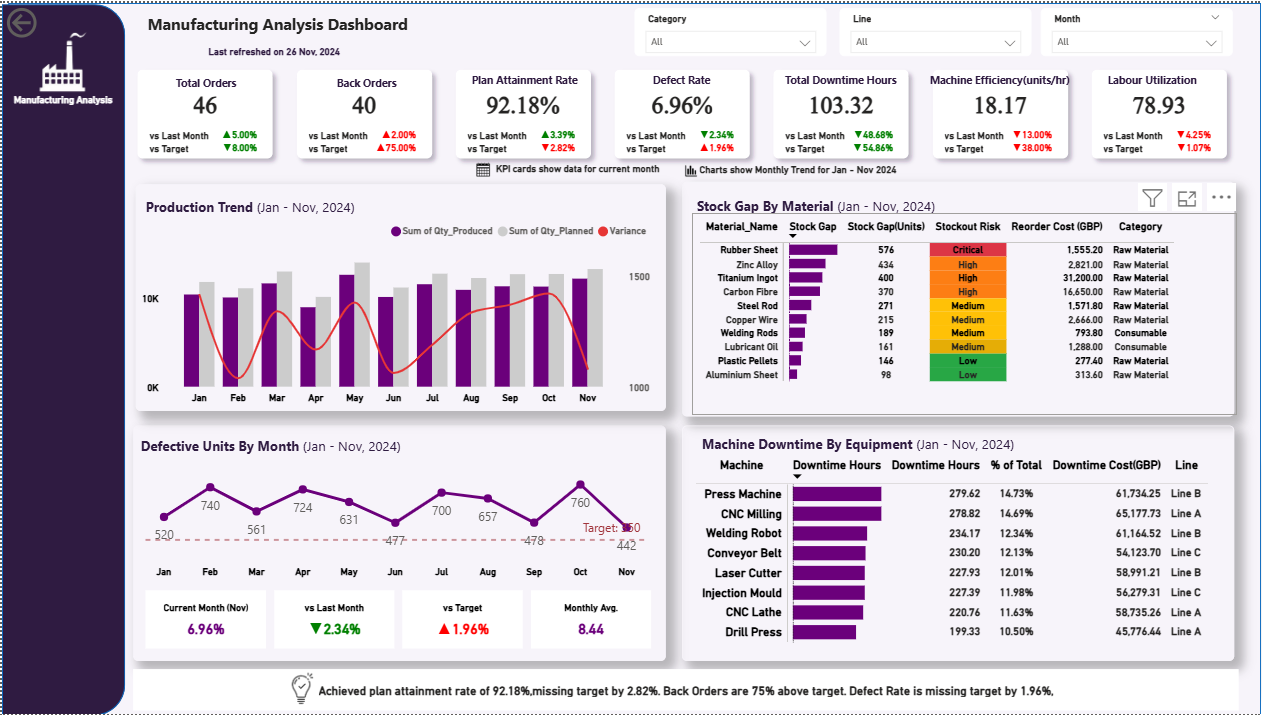

The page's visual inventory and layout, read from the dashboard file:
{"tool":"powerbi","page":{"name":"Page 1","canvas":[1280,720],"ordinal":0},"visuals":[{"type":"shape","box":[704.1,459.2,558.7,238.8],"z":0},{"type":"shape","box":[5.8,0,1269.6,721.4],"z":1000},{"type":"shape","box":[0,1.2,124.7,720.2],"z":2000},{"type":"textbox","box":[135.3,5.6,287.4,39.4],"z":3000},{"type":"cardVisual","fields":{"Data":["production_orders.TotalOrders_Latest","production_orders.TotalBackOrders_Latest","production_orders.Plan_Attainment_Latest","quality_defects.DefectRate_Latest","downtime_log.DowntimeRate_Latest","employees_shifts.MachineProductivity_Latest","employees_shifts.LabourUtil_Latest"]},"box":[119.8,50.1,1143.3,124.7],"z":4000},{"type":"textbox","box":[140.6,66,132.1,31.8],"z":5000},{"type":"textbox","box":[459.8,63.6,139.4,30.6],"z":6000},{"type":"textbox","box":[620,63.6,135.7,30.6],"z":7000},{"type":"textbox","box":[774.1,63.6,149.2,28.1],"z":8000},{"type":"textbox","box":[930.6,63.6,160.2,30.6],"z":9000},{"type":"textbox","box":[302,66,133.3,28.1],"z":10000},{"type":"card","fields":{"Values":["production_orders.Refresh"]},"box":[146.7,36.7,258,25.7],"z":11000},{"type":"shape","box":[688.5,181,558.8,237.2],"z":13000},{"type":"textbox","box":[698.2,190.8,284.9,37.9],"z":14000},{"type":"textbox","box":[1078.5,63.6,172.4,28.1],"z":15000},{"type":"actionButton","box":[0,0,100,40],"z":16000},{"type":"pivotTable","fields":{"Rows":["inventory_materials.Material_Name"],"Values":["Sum(inventory_materials.Stock_Gap)","inventory_materials.StockGap","inventory_materials.Measure1","Sum(inventory_materials.Reorder_Cost_GBP)","Min(inventory_materials.Category)"]},"box":[698.2,212.8,552.7,205.4],"z":17000},{"type":"textbox","box":[439,152,234,29],"z":18000},{"type":"textbox","box":[701,153,235,29],"z":19000},{"type":"shape","box":[133.3,428,539.3,238.5],"z":20000},{"type":"shape","box":[688.5,428,558.8,238.5],"z":21000},{"type":"slicer","fields":{"Values":["dim_products.Category"]},"box":[640.8,4.9,194.4,48.9],"z":22000},{"type":"textbox","box":[704.4,432.9,347.3,35.5],"z":23000},{"type":"slicer","fields":{"Values":["dim_employees.Line"]},"box":[848.6,4.9,194.4,48.9],"z":24000},{"type":"slicer","fields":{"Values":["dim_date.Month_Name"]},"box":[1051.6,4.9,194.4,48.9],"z":25000},{"type":"lineChart","fields":{"Category":["quality_defects.Month_Name"],"Y":["Sum(quality_defects.Units_Defective)"]},"box":[140.6,468.3,516,121.1],"z":26000},{"type":"pivotTable","fields":{"Rows":["downtime_log.Machine_Name"],"Values":["Sum(downtime_log.Duration_hrs)","downtime_log.Downtime_hrs","downtime_log.Downtime Rate","Sum(downtime_log.Cost_GBP)","Min(downtime_log.Production_Line)"]},"box":[694,453,552.6,206.3],"z":27000},{"type":"shape","box":[135.6,183.2,536.7,229.4],"z":28000},{"type":"cardVisual","fields":{"Data":["quality_defects.DefectRate_Latest","quality_defects.DefectRate_Prev","quality_defects.DefectRate_Target","Avg(quality_defects.Defect_Rate)"]},"box":[140.6,589.4,522.1,69.7],"z":29000},{"type":"textbox","box":[139.9,191.9,396.8,39],"z":30000},{"type":"lineClusteredColumnComboChart","fields":{"Category":["production_orders.Month_Name"],"Y":["Sum(production_orders.Qty_Produced)","Sum(production_orders.Qty_Planned)"],"Y2":["Sum(production_orders.Production_Variance)"]},"box":[137.1,212.1,525.2,200.5],"z":31000},{"type":"textbox","box":[135.7,434.1,397.4,34.2],"z":32500},{"type":"shape","box":[132.7,675.2,1119.6,41.8],"z":32501},{"type":"image","box":[474,148,29,40],"z":32502},{"type":"image","box":[682,150,31,39],"z":32503},{"type":"image","box":[262,665.8,82.3,50.6],"z":32504},{"type":"image","box":[10.1,0,103.8,112.7],"z":32505},{"type":"textbox","box":[3.8,82.3,116.5,29.1],"z":32506}]}

Visuals, with their boxes on the page's 1280x720 design canvas (x1, y1, x2, y2). These are canvas units, not pixel positions in the 1262x715 screenshot, which may show the page scaled, cropped or inside an application window:
shape: bbox=(704, 459, 1263, 698)
shape: bbox=(6, 0, 1275, 721)
shape: bbox=(0, 1, 125, 721)
textbox: bbox=(135, 6, 423, 45)
cardVisual - production_orders.TotalOrders_Latest x production_orders.TotalBackOrders_Latest: bbox=(120, 50, 1263, 175)
textbox: bbox=(141, 66, 273, 98)
textbox: bbox=(460, 64, 599, 94)
textbox: bbox=(620, 64, 756, 94)
textbox: bbox=(774, 64, 923, 92)
textbox: bbox=(931, 64, 1091, 94)
textbox: bbox=(302, 66, 435, 94)
card - production_orders.Refresh: bbox=(147, 37, 405, 62)
shape: bbox=(688, 181, 1247, 418)
textbox: bbox=(698, 191, 983, 229)
textbox: bbox=(1078, 64, 1251, 92)
actionButton: bbox=(0, 0, 100, 40)
pivotTable - inventory_materials.Material_Name x Sum(inventory_materials.Stock_Gap): bbox=(698, 213, 1251, 418)
textbox: bbox=(439, 152, 673, 181)
textbox: bbox=(701, 153, 936, 182)
shape: bbox=(133, 428, 673, 666)
shape: bbox=(688, 428, 1247, 666)
slicer - dim_products.Category: bbox=(641, 5, 835, 54)
textbox: bbox=(704, 433, 1052, 468)
slicer - dim_employees.Line: bbox=(849, 5, 1043, 54)
slicer - dim_date.Month_Name: bbox=(1052, 5, 1246, 54)
lineChart - quality_defects.Month_Name x Sum(quality_defects.Units_Defective): bbox=(141, 468, 657, 589)
pivotTable - downtime_log.Machine_Name x Sum(downtime_log.Duration_hrs): bbox=(694, 453, 1247, 659)
shape: bbox=(136, 183, 672, 413)
cardVisual - quality_defects.DefectRate_Latest x quality_defects.DefectRate_Prev: bbox=(141, 589, 663, 659)
textbox: bbox=(140, 192, 537, 231)
lineClusteredColumnComboChart - production_orders.Month_Name x Sum(production_orders.Qty_Produced): bbox=(137, 212, 662, 413)
textbox: bbox=(136, 434, 533, 468)
shape: bbox=(133, 675, 1252, 717)
image: bbox=(474, 148, 503, 188)
image: bbox=(682, 150, 713, 189)
image: bbox=(262, 666, 344, 716)
image: bbox=(10, 0, 114, 113)
textbox: bbox=(4, 82, 120, 111)
